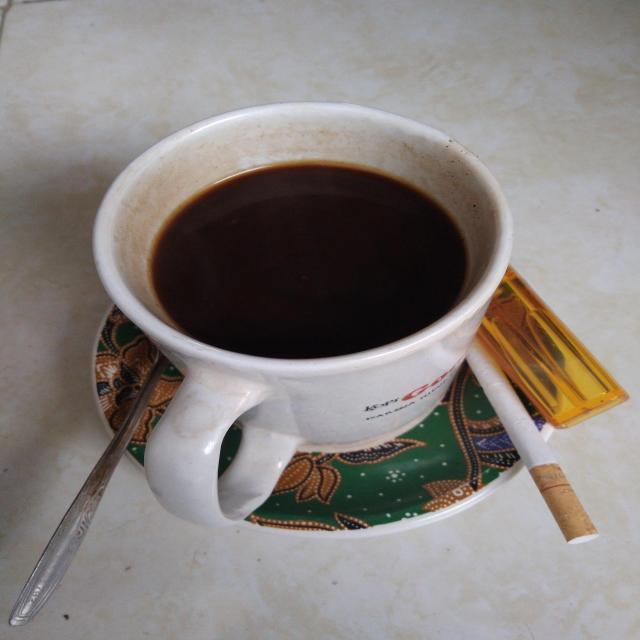rokok: (467, 343, 608, 557)
